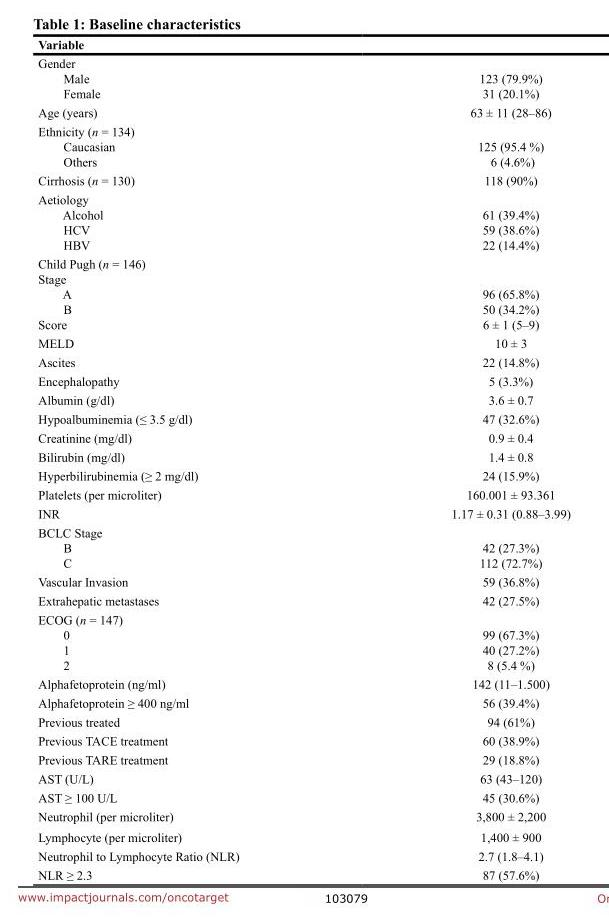table: (37, 36, 569, 881)
table column: (37, 36, 344, 881), (344, 36, 569, 881)
table column header: (37, 36, 569, 53)
table projected row header: (37, 53, 569, 70), (37, 121, 569, 138), (37, 189, 569, 206), (37, 253, 569, 270), (37, 522, 569, 539), (37, 609, 569, 626), (37, 270, 569, 286)
table row: (37, 806, 569, 826), (37, 826, 569, 846), (37, 102, 569, 121), (37, 170, 569, 189), (37, 333, 569, 352), (37, 352, 569, 371), (37, 371, 569, 390), (37, 390, 569, 409), (37, 427, 569, 446), (37, 446, 569, 465), (37, 465, 569, 484), (37, 484, 569, 503), (37, 503, 569, 522), (37, 571, 569, 590), (37, 590, 569, 609), (37, 692, 569, 711), (37, 711, 569, 730), (37, 730, 569, 749), (37, 749, 569, 768), (37, 768, 569, 787), (37, 787, 569, 806), (37, 846, 569, 865), (37, 409, 569, 427), (37, 674, 569, 692), (37, 36, 569, 53), (37, 53, 569, 70), (37, 85, 569, 102), (37, 121, 569, 138), (37, 153, 569, 170), (37, 189, 569, 206), (37, 236, 569, 253), (37, 253, 569, 270), (37, 316, 569, 333), (37, 522, 569, 539), (37, 554, 569, 571), (37, 609, 569, 626), (37, 657, 569, 674), (37, 270, 569, 286), (37, 641, 569, 657), (37, 865, 569, 881), (37, 70, 569, 85), (37, 138, 569, 153), (37, 206, 569, 221), (37, 221, 569, 236), (37, 286, 569, 301), (37, 301, 569, 316), (37, 539, 569, 554), (37, 626, 569, 641)
